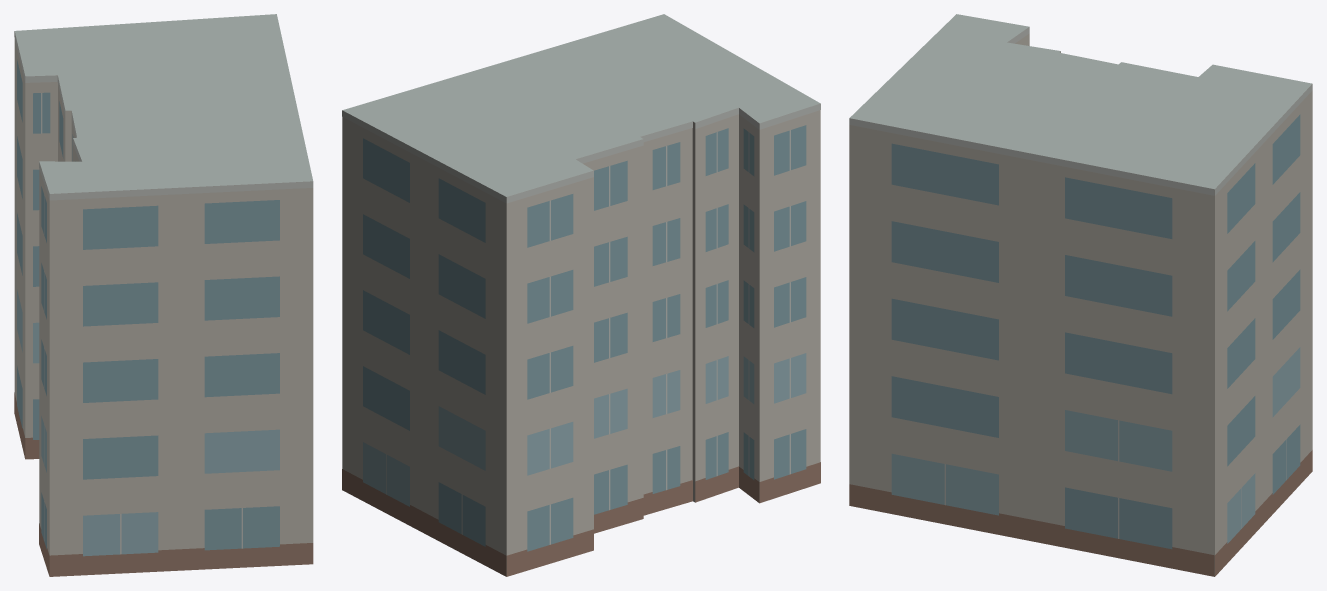
Rendered from survey-upis-32532592.glb.
3 renders of one model, left to right at view 1: azimuth 30°, elevation 25°; view 2: azimuth 150°, elevation 25°; view 3: azimuth 270°, elevation 25°, orthographic. The views are drawn at different scales.
Visible parts, largest first — view 1: survey-upis-32532592.tmp; view 2: survey-upis-32532592.tmp; view 3: survey-upis-32532592.tmp.
Part boxes in pixels (box(x1,y1,x2,y2)): survey-upis-32532592.tmp: box(14, 14, 313, 576); survey-upis-32532592.tmp: box(342, 14, 820, 576); survey-upis-32532592.tmp: box(849, 14, 1312, 576).
Bounding box in the file's own units: 13.88 × 14.3 × 15.5.
